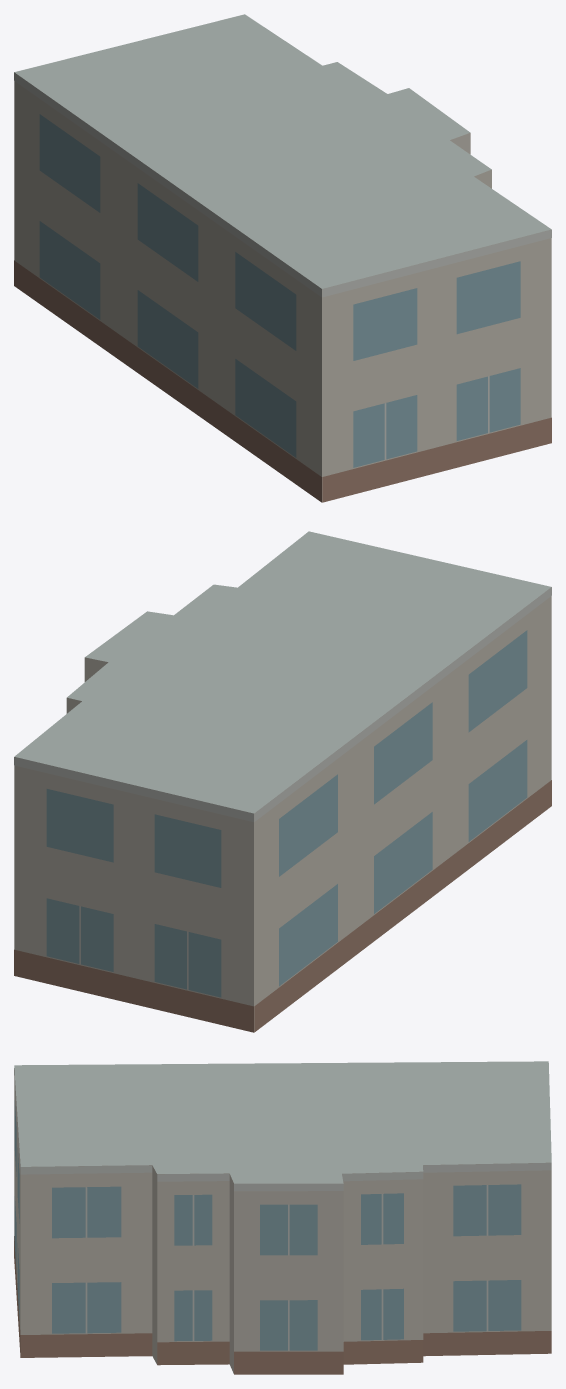
Rendered from survey-upis-32602085.glb.
3 renders of one model, top to bottom at view 1: azimuth 30°, elevation 25°; view 2: azimuth 150°, elevation 25°; view 3: azimuth 270°, elevation 25°, orthographic. The views are drawn at different scales.
Visible parts, largest first — view 1: survey-upis-32602085.tmp; view 2: survey-upis-32602085.tmp; view 3: survey-upis-32602085.tmp.
Part boxes in pixels (x1,y1,x2,y2): survey-upis-32602085.tmp: [14, 14, 551, 502]; survey-upis-32602085.tmp: [14, 531, 551, 1032]; survey-upis-32602085.tmp: [14, 1061, 551, 1374].
Size of the model in its own units: 8.39 by 6.1 by 15.58.
